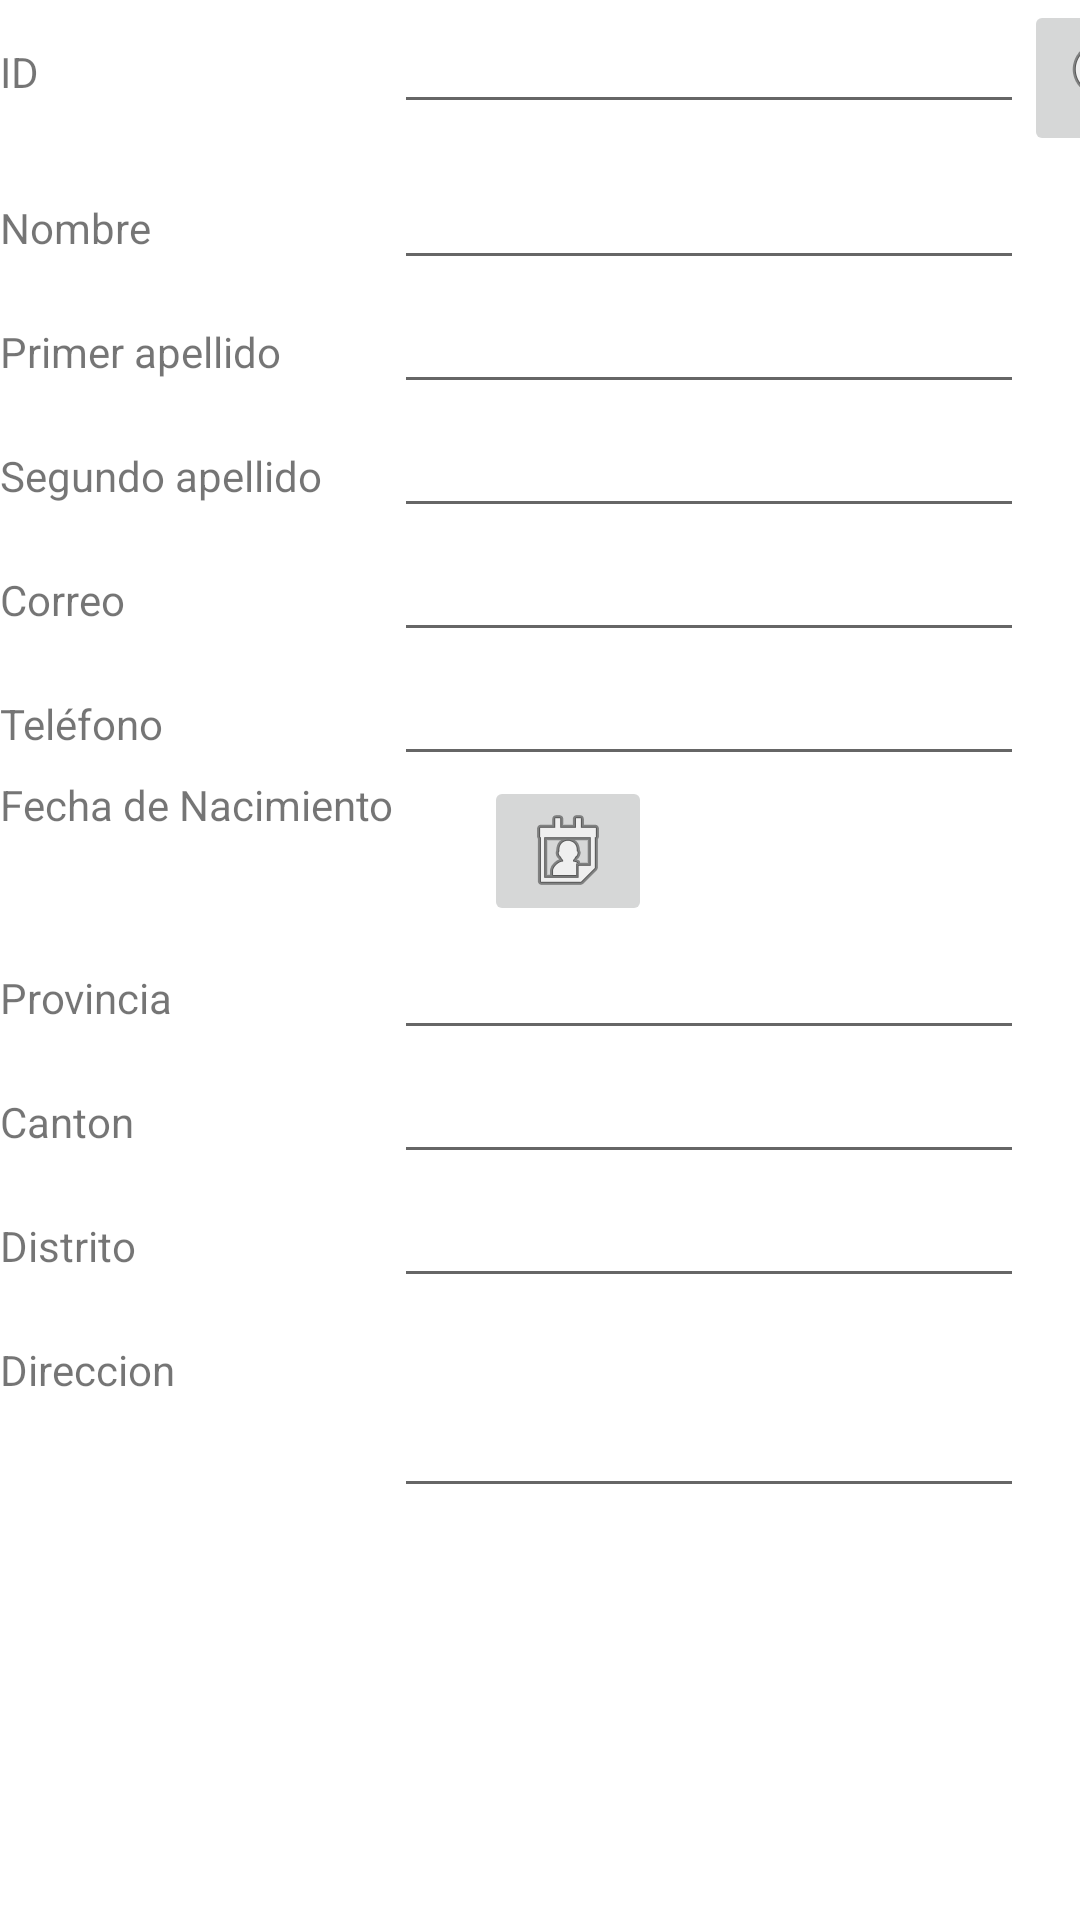

Named icons in this screenshot (1080px×1920px) and their bounding boxes, (x1, y1, x2, y2):
calendar: (496, 794, 640, 908)
